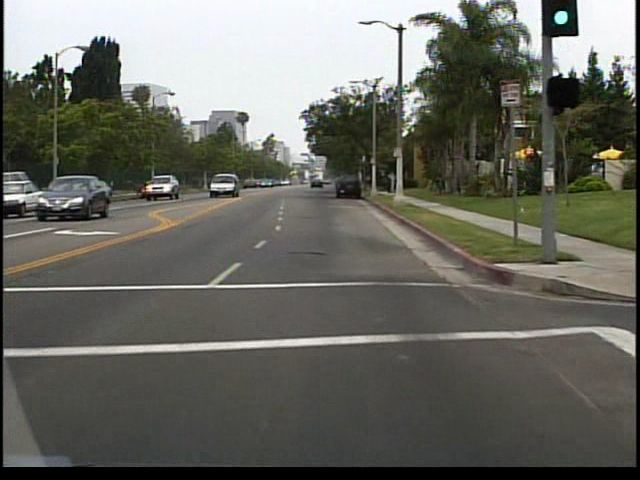person: (388, 171, 401, 195), (389, 175, 391, 194)
